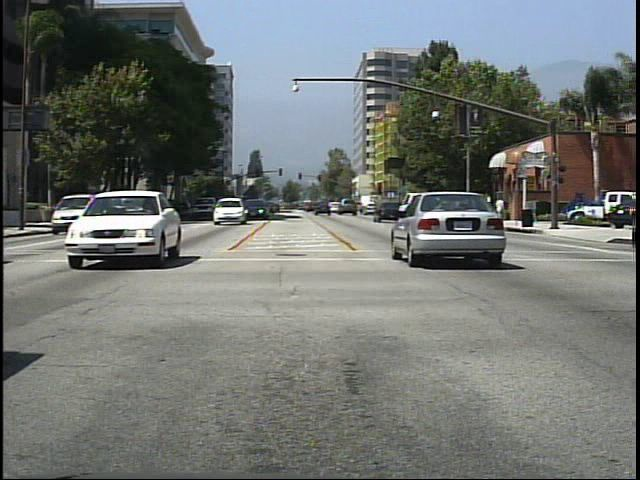person: (492, 192, 511, 229), (451, 193, 469, 228)
